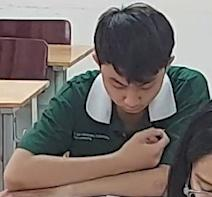Reading: (10, 4, 200, 197)
